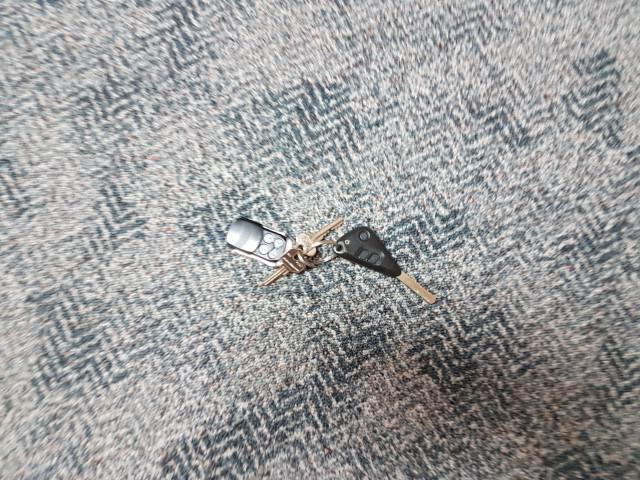key: (337, 225, 437, 303)
